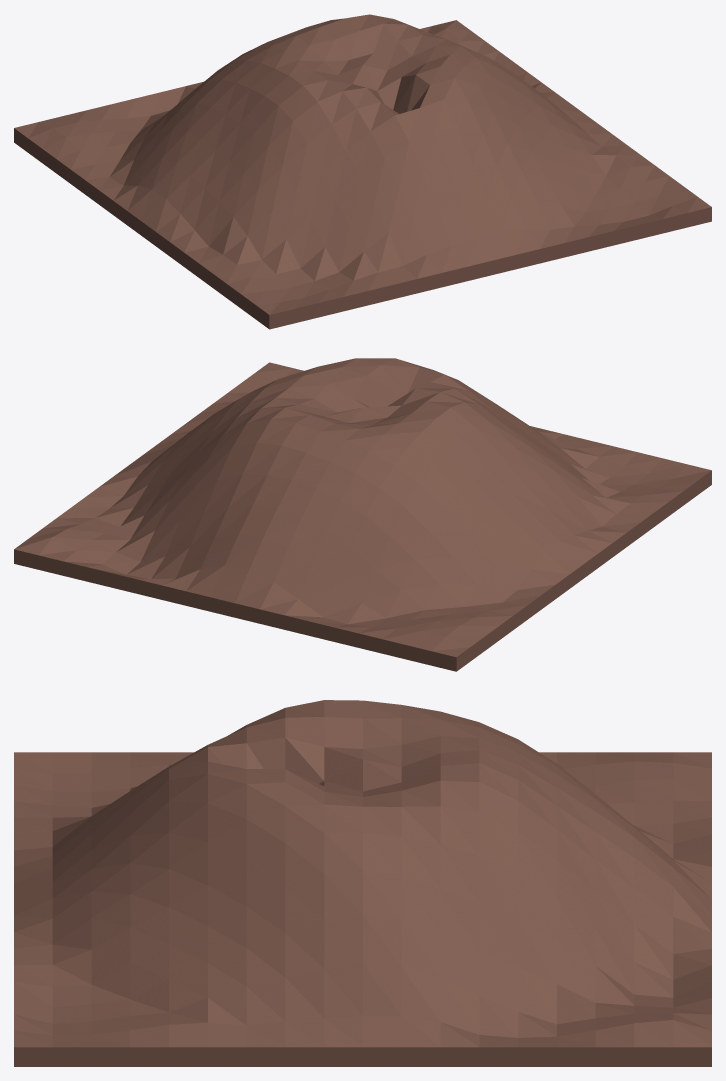
The model's file is volcano-and-lava-fields-volcano-and-lava-fields-scoria-c9b15b21__37466.glb.
3 renders of one model, top to bottom at view 1: azimuth 30°, elevation 25°; view 2: azimuth 150°, elevation 25°; view 3: azimuth 270°, elevation 25°, orthographic. The views are drawn at different scales.
Parts seen in each view (by area): view 1: volcano-and-lava-fields-scoria-cone; view 2: volcano-and-lava-fields-scoria-cone; view 3: volcano-and-lava-fields-scoria-cone.
Part boxes in pixels (x1,y1,x2,y2): volcano-and-lava-fields-scoria-cone: (14,14,711,329); volcano-and-lava-fields-scoria-cone: (14,358,711,671); volcano-and-lava-fields-scoria-cone: (14,700,711,1066).
Size of the model in its own units: 8 by 2.19 by 8.
2 materials, 2 textured.
